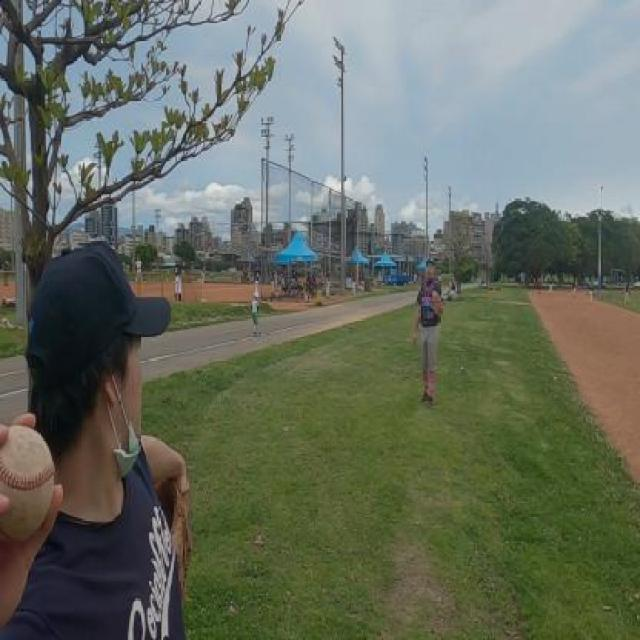baseball: (0, 423, 55, 545)
